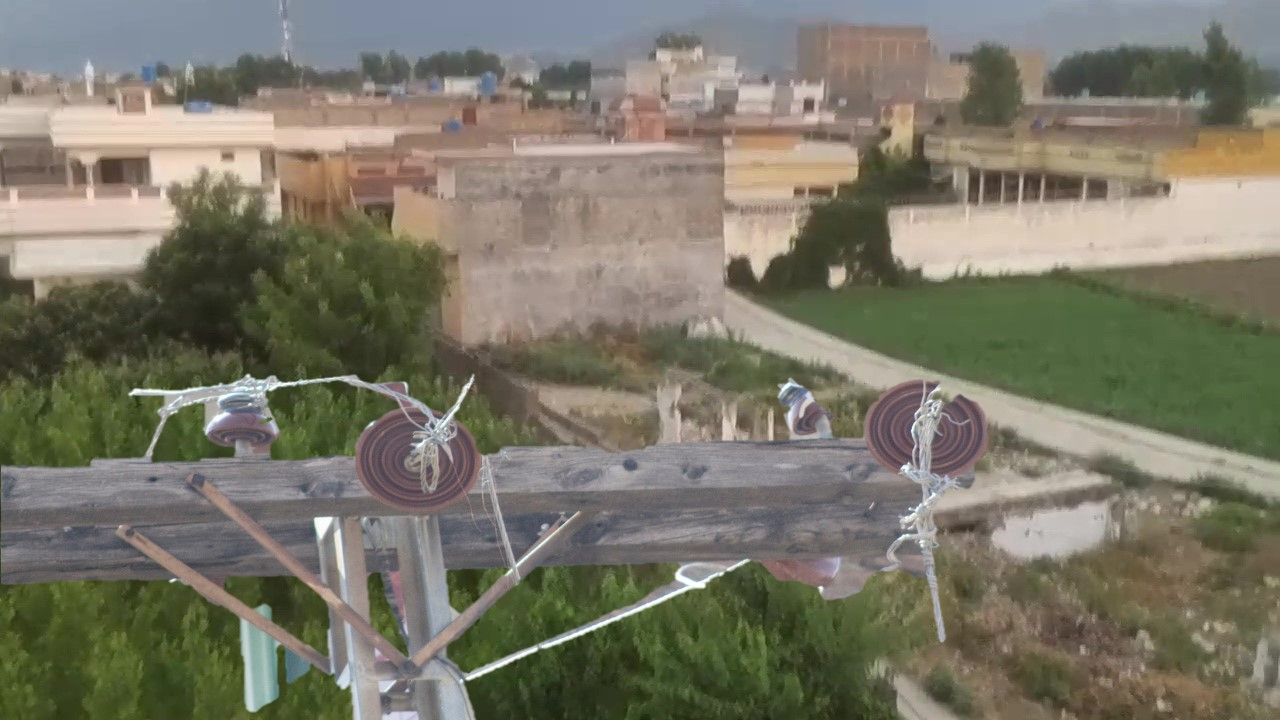defect_pin: (775, 374, 840, 440)
insulator_disc: (351, 401, 488, 511), (863, 375, 990, 485)
insulator_pin: (201, 386, 285, 450)
